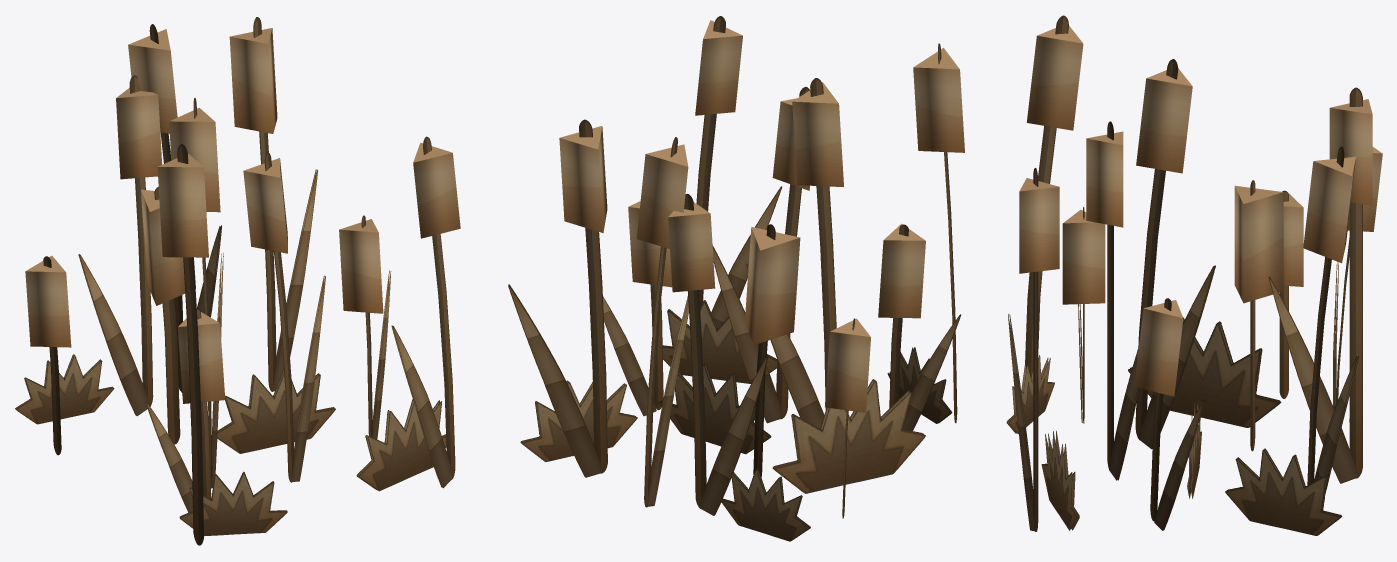
File: F23_REED_T.obj
3 views of the same model, side by side, from view 1: azimuth 30°, elevation 25°; view 2: azimuth 150°, elevation 25°; view 3: azimuth 270°, elevation 25° (orthographic).
Parts seen in each view (by area): view 1: F23_REED_T; view 2: F23_REED_T; view 3: F23_REED_T.
Boxes of the visible parts, x1,y1,x2,y2 form: F23_REED_T: (15, 17, 460, 545); F23_REED_T: (508, 16, 964, 541); F23_REED_T: (1006, 15, 1382, 535).
Bounding box in the file's own units: 0.959 × 1.07 × 0.92.
1 material, 1 textured.
